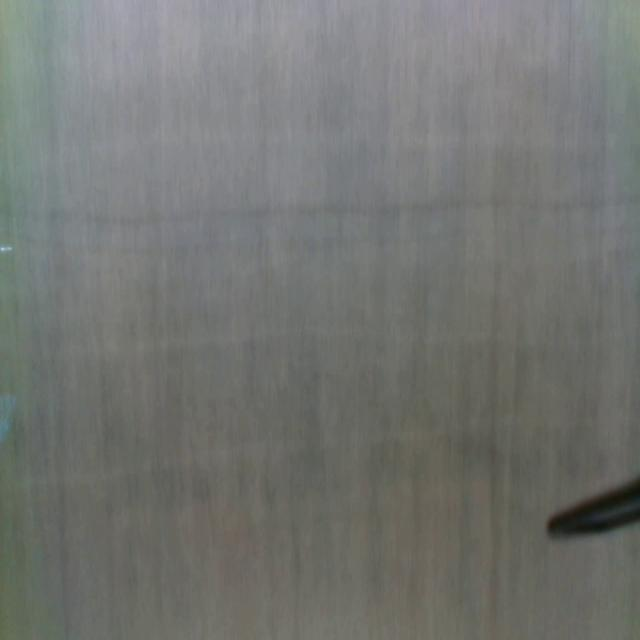color bleeding: (0, 192, 640, 227)
